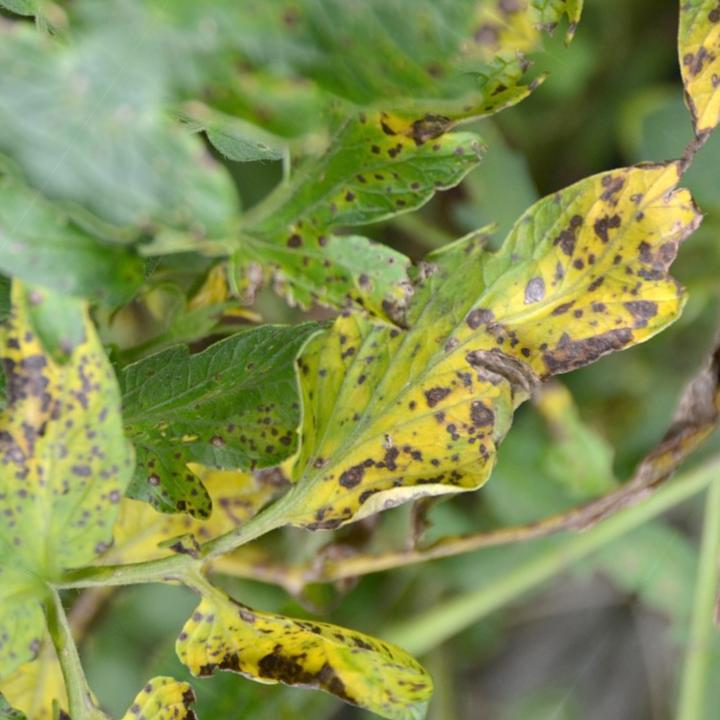Tomato Septoria leaf spot: (212, 48, 720, 672), (178, 0, 552, 374), (0, 261, 204, 589), (152, 528, 454, 720)
